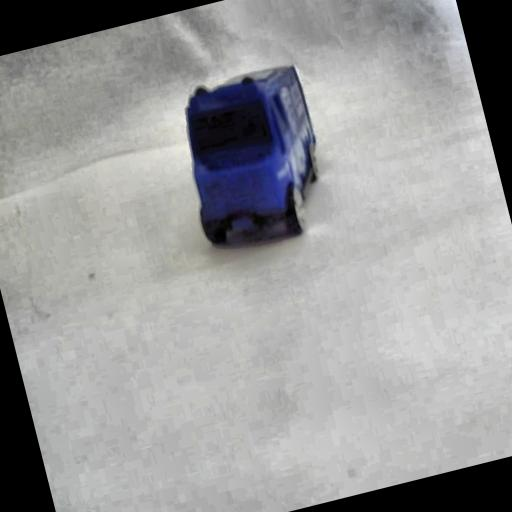police car: (166, 52, 340, 257)
